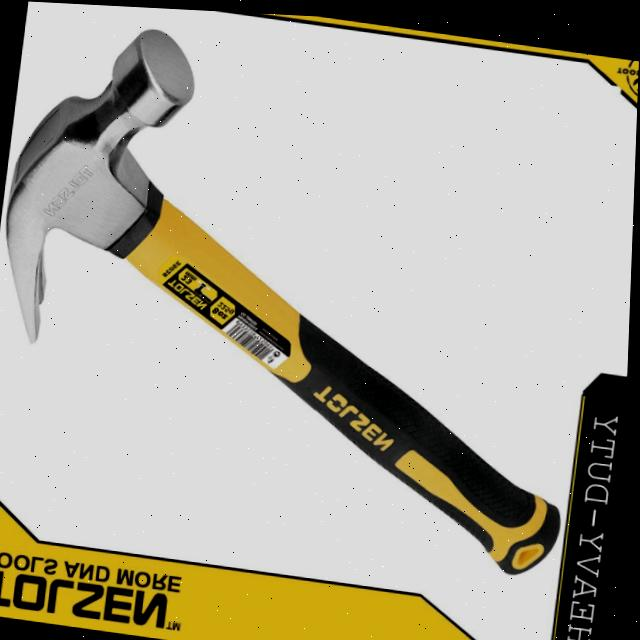hammer: (0, 2, 618, 581)
